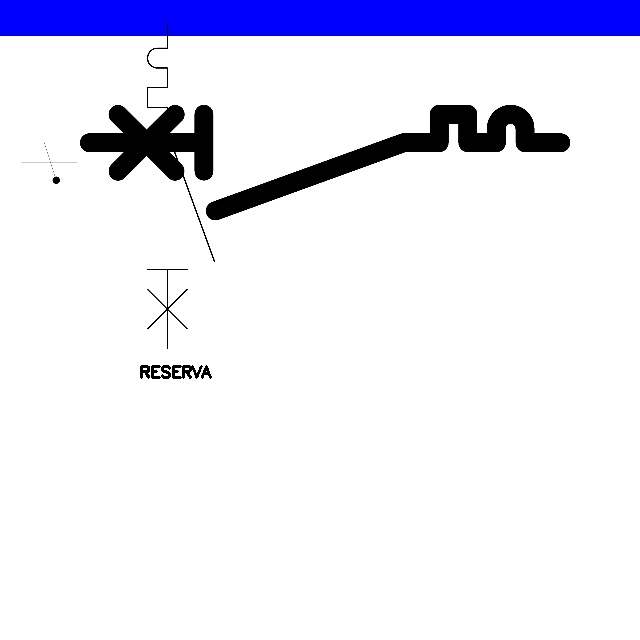interruptor_termomagnetico: (77, 102, 573, 223), (139, 15, 222, 357)
